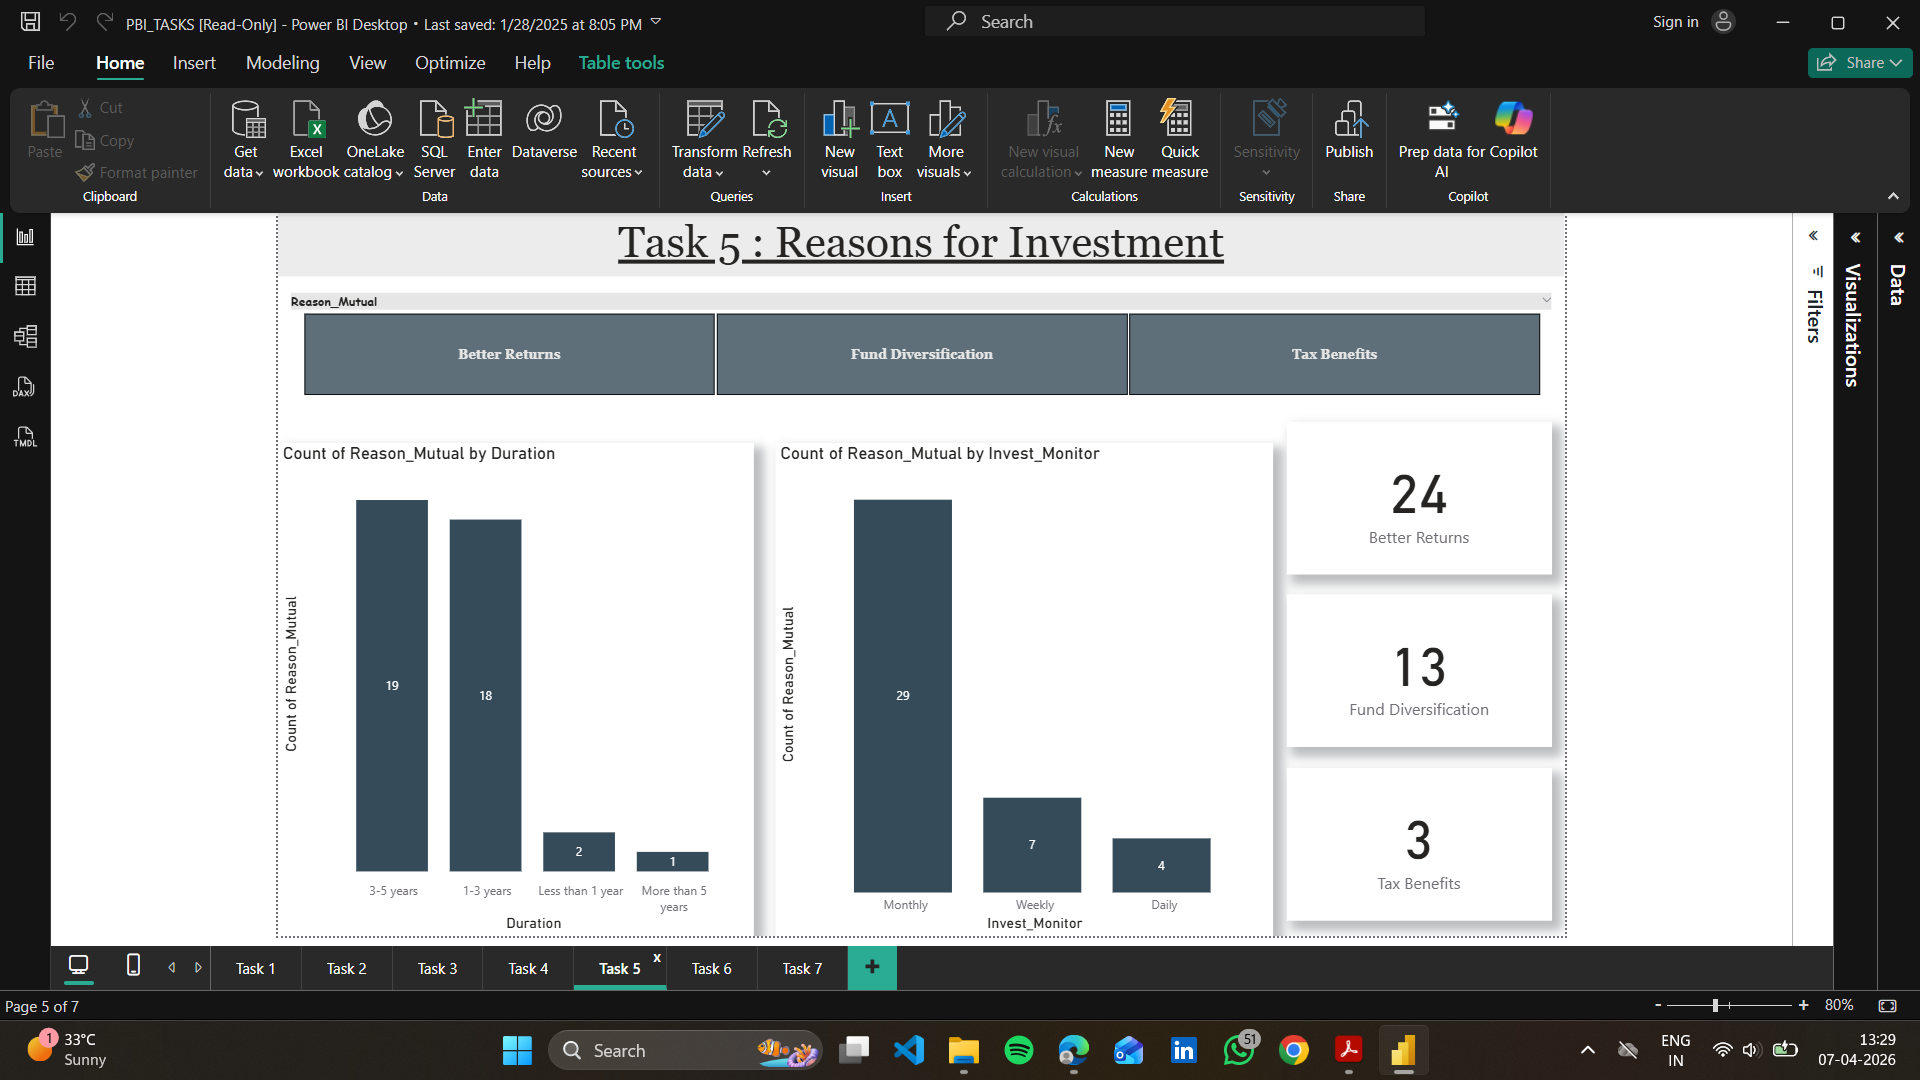

This screenshot's page, from the dashboard's own definition file:
{"tool":"powerbi","page":{"name":"Task 5","canvas":[1280,720],"ordinal":4},"visuals":[{"type":"textbox","box":[0,0,1280,63.4],"z":0},{"type":"clusteredColumnChart","fields":{"Category":["Data_set 2.Duration"],"Y":["CountNonNull(Data_set 2.Reason_Mutual)"]},"box":[0,228.9,473.9,491.4],"z":1000},{"type":"clusteredColumnChart","fields":{"Y":["CountNonNull(Data_set 2.Reason_Mutual)"],"Category":["Data_set 2.Invest_Monitor"]},"box":[495.1,228.9,495.1,491.4],"z":2000},{"type":"slicer","fields":{"Values":["Data_set 2.Reason_Mutual"]},"box":[0,74.6,1280,113.2],"z":3000},{"type":"card","fields":{"Values":["Data_set 2.Better Returns"]},"box":[1003.9,207.7,263.7,151.8],"z":4000},{"type":"card","fields":{"Values":["Data_set 2.Fund Diversification"]},"box":[1003.9,379.4,263.7,151.8],"z":5000},{"type":"card","fields":{"Values":["Data_set 2.Tax Benifits"]},"box":[1003.9,552.3,263.7,151.8],"z":6000}]}

Visuals, with their boxes on the page's 1280x720 design canvas (x1, y1, x2, y2). These are canvas units, not pixel positions in the 1920x1080 screenshot, which may show the page scaled, cropped or inside an application window:
textbox: 0/0/1280/63
clusteredColumnChart - Data_set 2.Duration x CountNonNull(Data_set 2.Reason_Mutual): 0/229/474/720
clusteredColumnChart - CountNonNull(Data_set 2.Reason_Mutual) x Data_set 2.Invest_Monitor: 495/229/990/720
slicer - Data_set 2.Reason_Mutual: 0/75/1280/188
card - Data_set 2.Better Returns: 1004/208/1268/360
card - Data_set 2.Fund Diversification: 1004/379/1268/531
card - Data_set 2.Tax Benifits: 1004/552/1268/704
